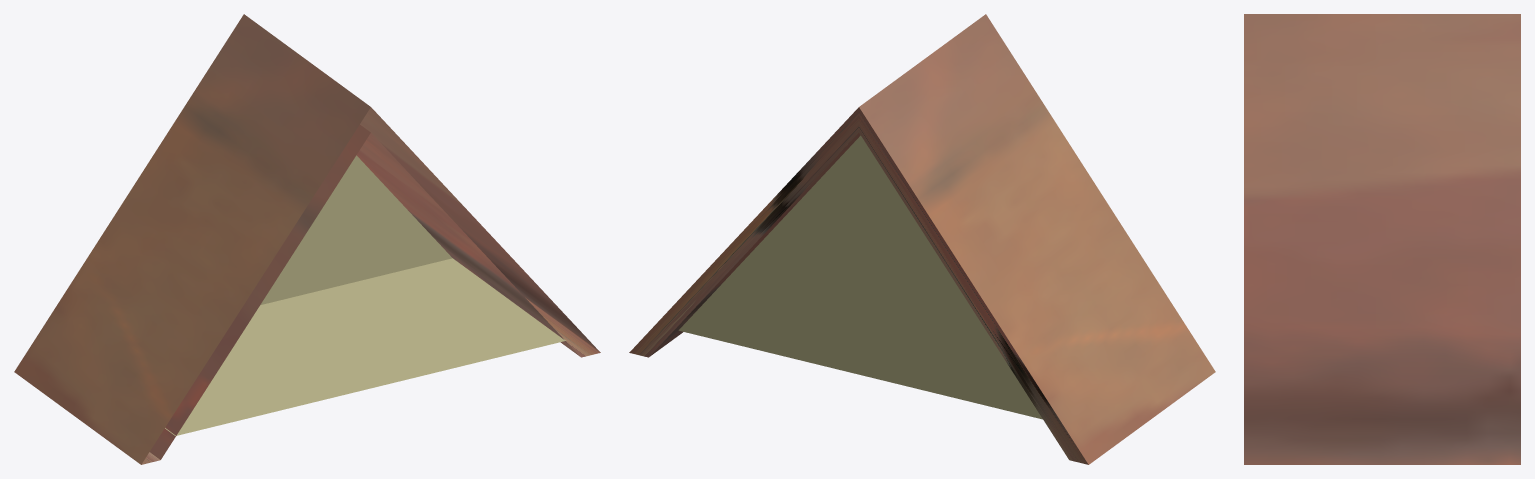
Rendered from roof_8x5x4_head.fbx.
3 views of the same model, side by side, from view 1: azimuth 30°, elevation 25°; view 2: azimuth 150°, elevation 25°; view 3: azimuth 270°, elevation 25° (orthographic). The views are drawn at different scales.
Visible parts, largest first — view 1: roof_8x5x4_head; view 2: roof_8x5x4_head; view 3: roof_8x5x4_head.
Boxes of the visible parts, left/top/right/bottom form: roof_8x5x4_head: left=14, top=14, right=600, bottom=464; roof_8x5x4_head: left=629, top=14, right=1215, bottom=464; roof_8x5x4_head: left=1244, top=14, right=1520, bottom=464.
Size of the model in its own units: 940 by 590 by 450.
